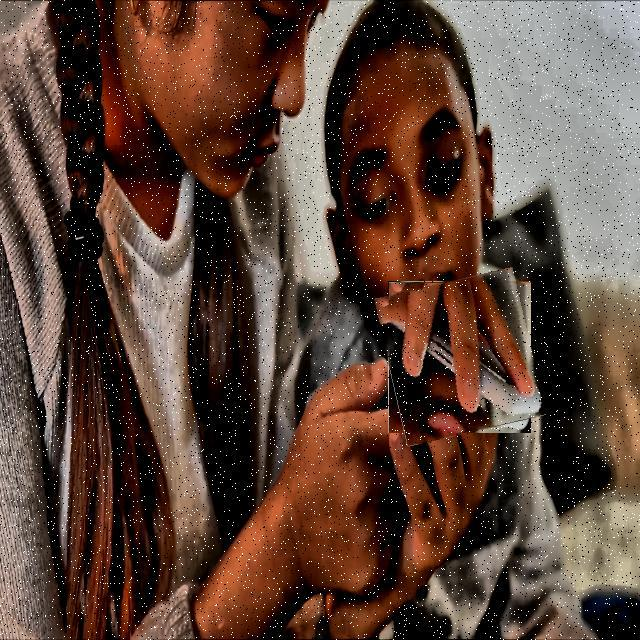Phone: (381, 274, 538, 440)
